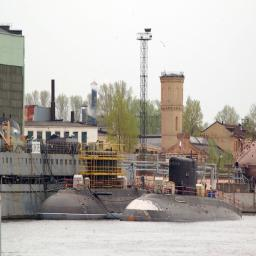submarine: (121, 157, 253, 221), (39, 182, 162, 219)
